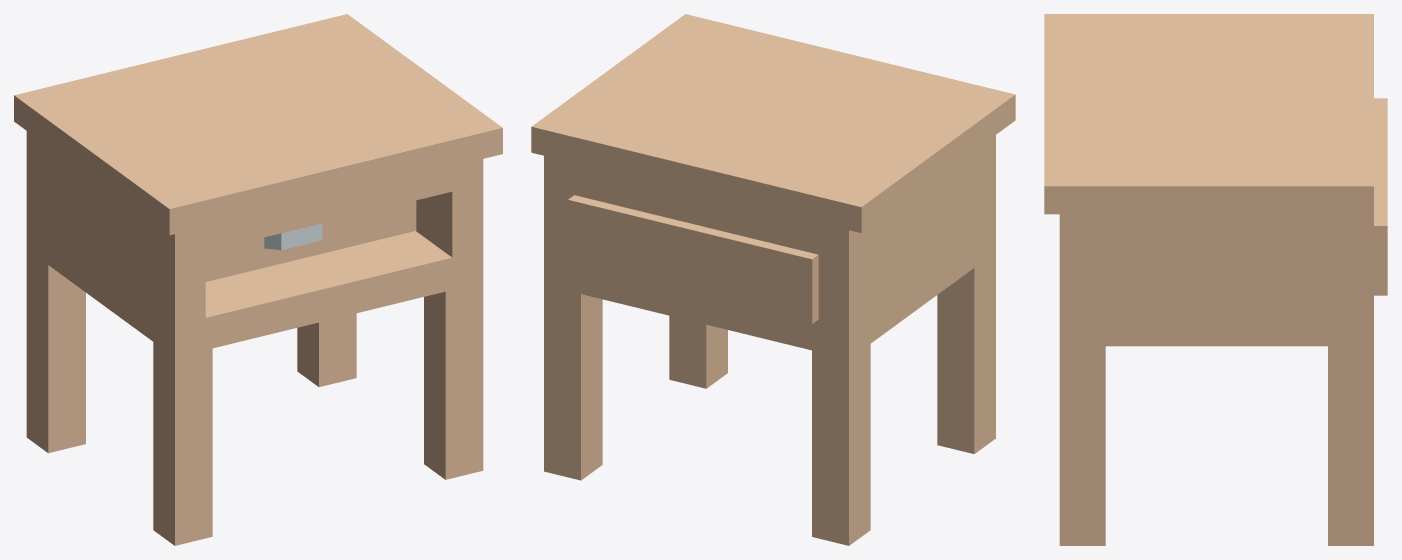
Rendered from cabinetBedDrawerTable.glb.
The picture shows the model from 3 angles, left to right: view 1: azimuth 30°, elevation 25°; view 2: azimuth 150°, elevation 25°; view 3: azimuth 270°, elevation 25°; orthographic projection. The views are drawn at different scales.
Parts seen in each view (by area): view 1: cabinetBedDrawerTable, cabinetBedDrawerTable.001; view 2: cabinetBedDrawerTable, cabinetBedDrawerTable.001; view 3: cabinetBedDrawerTable, cabinetBedDrawerTable.001.
Boxes of the visible parts, x1=… form: cabinetBedDrawerTable: x1=14, y1=14, x2=502, y2=545; cabinetBedDrawerTable.001: x1=205, y1=200, x2=416, y2=281; cabinetBedDrawerTable: x1=531, y1=14, x2=1015, y2=545; cabinetBedDrawerTable.001: x1=568, y1=195, x2=818, y2=323; cabinetBedDrawerTable: x1=1044, y1=14, x2=1373, y2=545; cabinetBedDrawerTable.001: x1=1374, y1=98, x2=1387, y2=295.
Bounding box in the file's own units: 0.7714 × 0.7633 × 0.6493.
